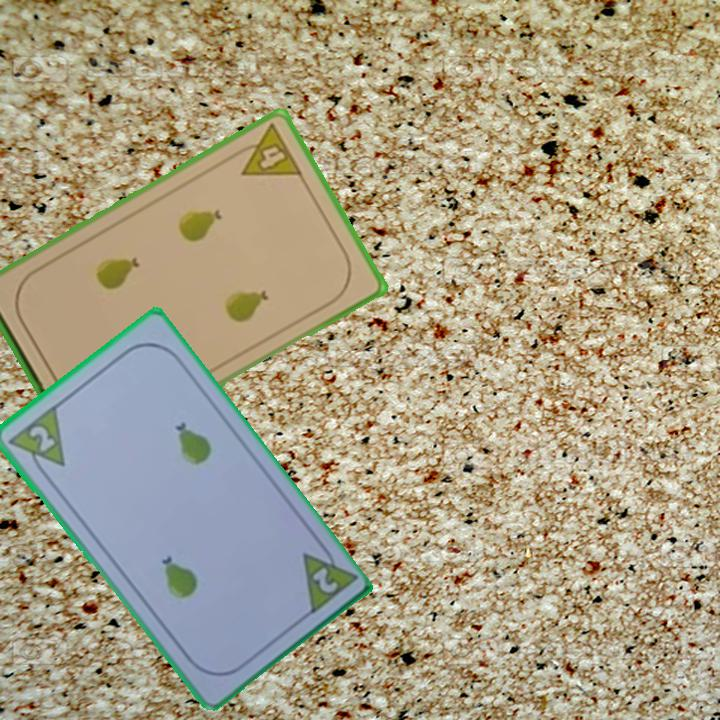2p: (3, 401, 68, 482), (307, 562, 341, 597)
4p: (228, 120, 306, 179)
